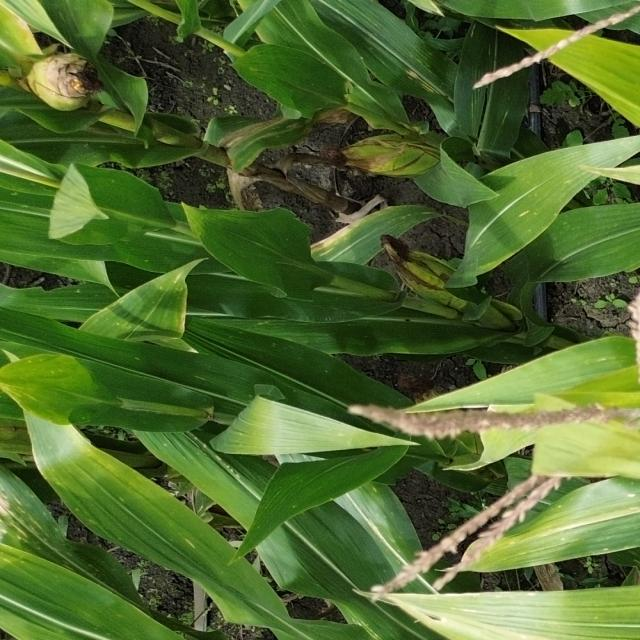gray-leaf-spot: (0, 483, 54, 558), (383, 46, 443, 100), (315, 223, 386, 265), (466, 22, 504, 82)
northern-leaf-blight: (205, 106, 303, 156)
southern-leaf-blight: (63, 477, 158, 548), (498, 511, 600, 564), (102, 275, 184, 332), (167, 427, 244, 481), (364, 482, 411, 548), (511, 169, 559, 233)
